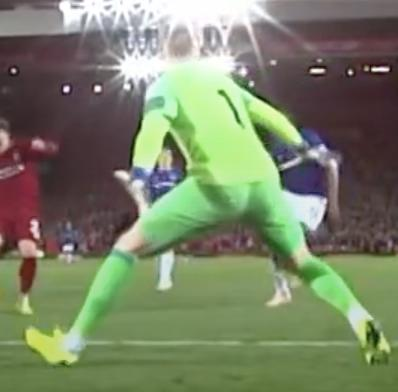goalkeeper: (21, 7, 398, 392)
